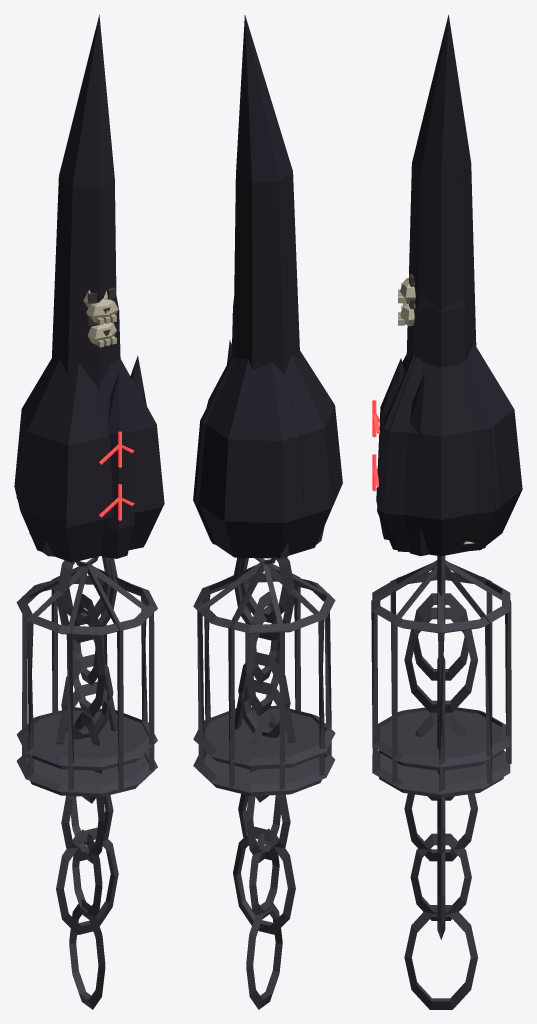
File: abyss.glb
3 views of the same model, side by side, from view 1: azimuth 30°, elevation 25°; view 2: azimuth 150°, elevation 25°; view 3: azimuth 270°, elevation 25° (orthographic).
Parts seen in each view (by area): view 1: abyss_rune_stone_a, abyss_obsidian_spike_b, abyss_cage_a, abyss_chain_b, abyss_cage_b, abyss_rune_stone_b, abyss_chain_a, abyss_obsidian_spike_a, abyss_bone_spire_b, abyss_bone_spire_a; view 2: abyss_rune_stone_a, abyss_obsidian_spike_b, abyss_cage_a, abyss_chain_b, abyss_cage_b, abyss_chain_a, abyss_rune_stone_b; view 3: abyss_obsidian_spike_b, abyss_rune_stone_b, abyss_cage_a, abyss_rune_stone_a, abyss_cage_b, abyss_chain_b, abyss_chain_a, abyss_obsidian_spike_a, abyss_bone_spire_a, abyss_bone_spire_b.
Boxes of the visible parts, bbox=[...] form: abyss_rune_stone_a: bbox=[14, 358, 164, 562]; abyss_obsidian_spike_b: bbox=[42, 14, 146, 556]; abyss_cage_a: bbox=[16, 556, 157, 770]; abyss_chain_b: bbox=[56, 558, 118, 1009]; abyss_cage_b: bbox=[16, 565, 157, 797]; abyss_rune_stone_b: bbox=[16, 358, 162, 555]; abyss_chain_a: bbox=[61, 556, 113, 919]; abyss_obsidian_spike_a: bbox=[29, 295, 134, 558]; abyss_bone_spire_b: bbox=[83, 287, 118, 325]; abyss_bone_spire_a: bbox=[87, 315, 116, 347]; abyss_rune_stone_a: bbox=[193, 351, 342, 558]; abyss_obsidian_spike_b: bbox=[227, 15, 324, 544]; abyss_cage_a: bbox=[193, 558, 335, 769]; abyss_chain_b: bbox=[233, 557, 295, 1009]; abyss_cage_b: bbox=[193, 563, 335, 796]; abyss_chain_a: bbox=[238, 557, 290, 918]; abyss_rune_stone_b: bbox=[195, 356, 304, 553]; abyss_obsidian_spike_b: bbox=[406, 15, 476, 556]; abyss_rune_stone_b: bbox=[377, 353, 499, 556]; abyss_cage_a: bbox=[371, 560, 511, 770]; abyss_rune_stone_a: bbox=[372, 343, 522, 551]; abyss_cage_b: bbox=[371, 561, 511, 797]; abyss_chain_b: bbox=[404, 555, 477, 1009]; abyss_chain_a: bbox=[410, 593, 471, 920]; abyss_obsidian_spike_a: bbox=[376, 292, 468, 539]; abyss_bone_spire_a: bbox=[398, 299, 474, 544]; abyss_bone_spire_b: bbox=[398, 274, 415, 303].
Size of the model in its own units: 0.6113 by 4.48 by 0.6113.
